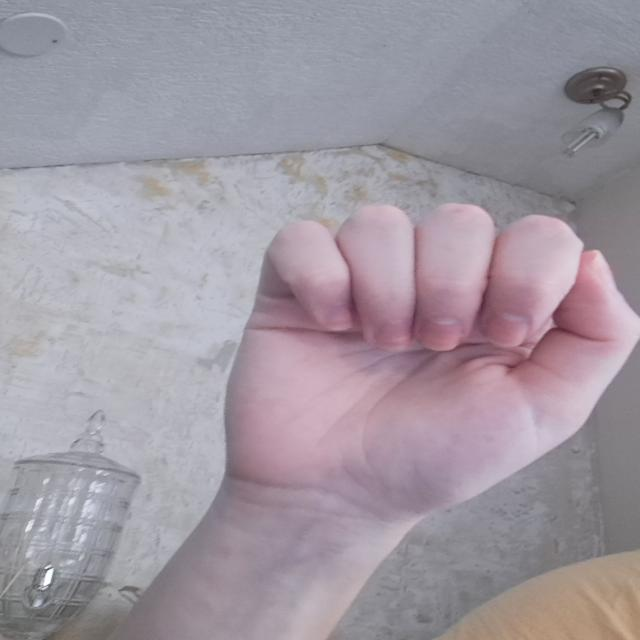A: (225, 196, 640, 500)
